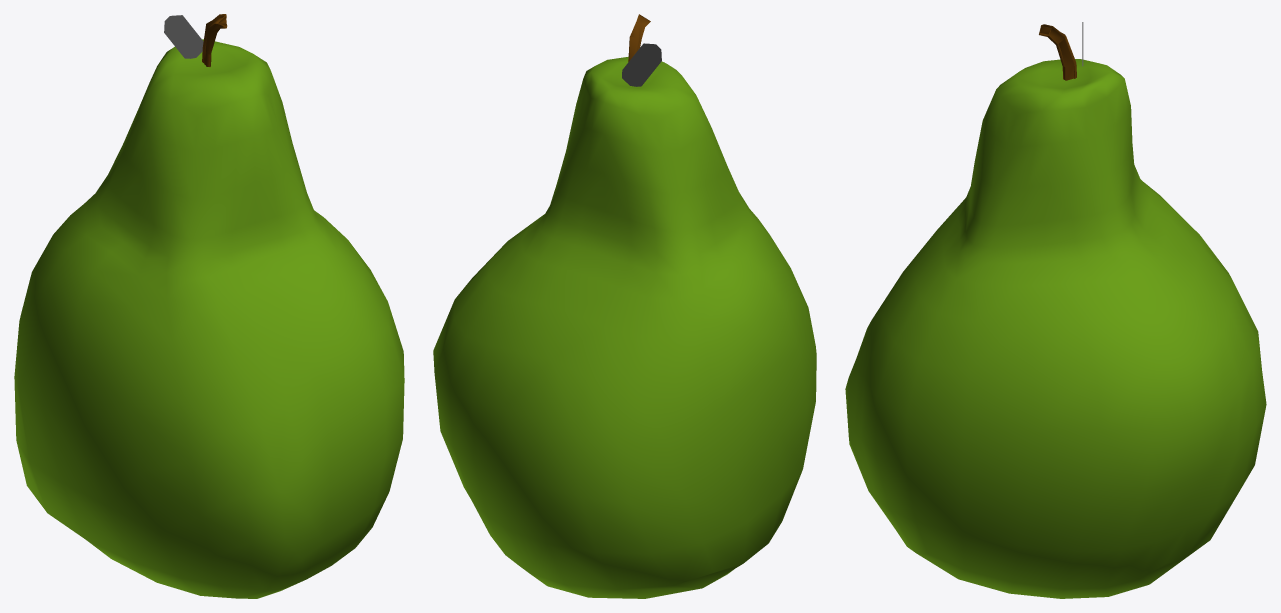
The model's file is pear_01.fbx.
3 renders of one model, left to right at view 1: azimuth 30°, elevation 25°; view 2: azimuth 150°, elevation 25°; view 3: azimuth 270°, elevation 25°, orthographic.
Parts seen in each view (by area): view 1: Empty_Mesh; view 2: Empty_Mesh; view 3: Empty_Mesh.
Boxes of the visible parts, left/top/right/bottom form: Empty_Mesh: left=14, top=14, right=404, bottom=598; Empty_Mesh: left=433, top=14, right=816, bottom=598; Empty_Mesh: left=845, top=22, right=1266, bottom=598.
Size of the model in its own units: 53.52 by 87.83 by 61.33.
